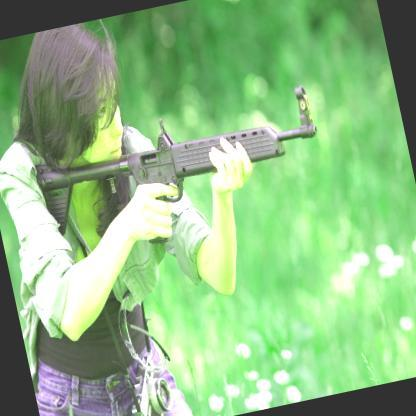rifle: (26, 83, 340, 270)
